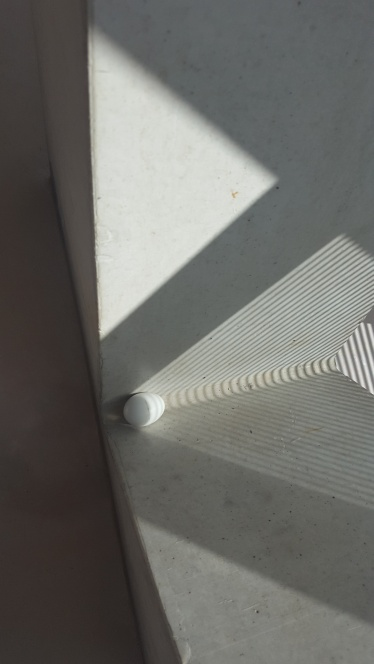egg: (121, 391, 167, 426)
